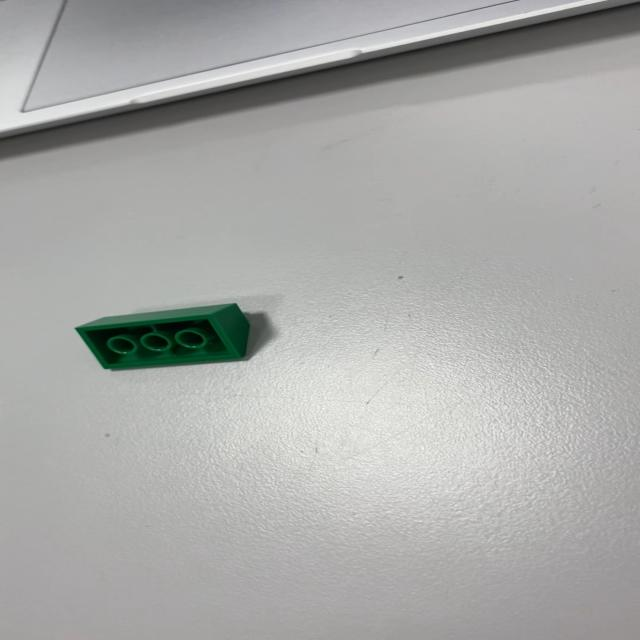P4x2x1: (73, 302, 251, 371)
